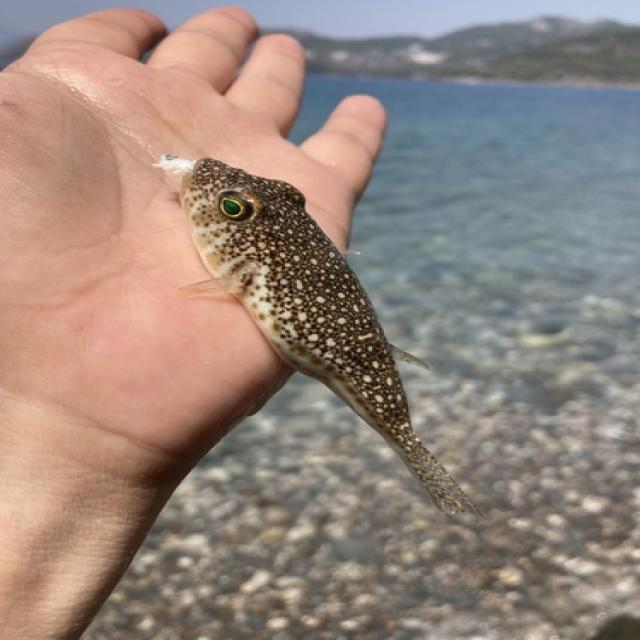Balik: (158, 157, 481, 514)
